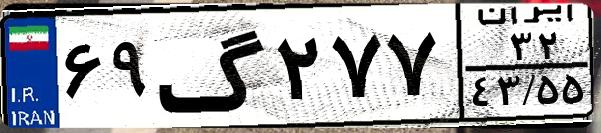2: (270, 28, 330, 110), (537, 27, 568, 80)
3: (508, 27, 537, 80), (495, 70, 520, 125)
4: (470, 70, 495, 125)
5: (560, 70, 590, 125), (535, 70, 560, 125)
6: (57, 26, 110, 100)
7: (385, 28, 445, 110), (330, 28, 385, 110)
9: (110, 28, 156, 98)
گ: (156, 12, 270, 120)
